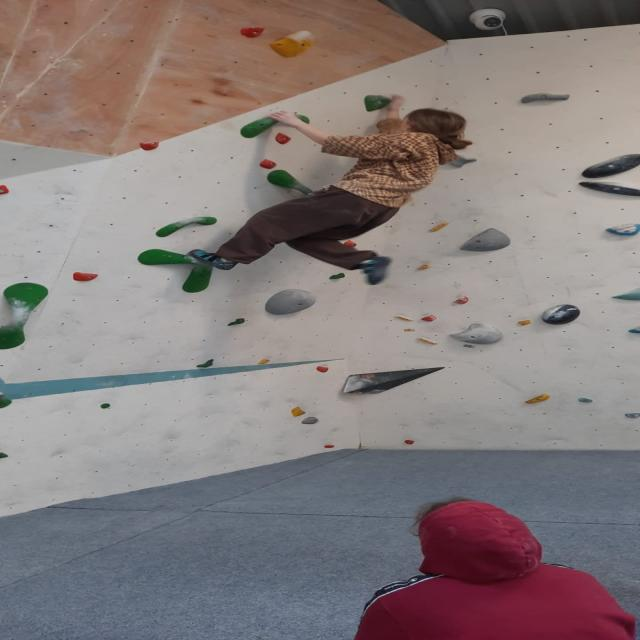Crimp: (136, 139, 176, 155), (237, 23, 273, 40), (523, 392, 555, 407), (253, 156, 280, 168), (273, 131, 291, 147), (290, 406, 310, 419), (315, 364, 336, 374), (452, 296, 473, 306), (418, 314, 439, 322), (258, 358, 272, 364)
Jug: (130, 247, 231, 297), (0, 280, 62, 350), (230, 108, 320, 140), (150, 212, 222, 240), (263, 29, 323, 60), (264, 169, 322, 196)
Pinch: (415, 334, 442, 346), (392, 314, 420, 324)
Sloper: (574, 150, 640, 181), (259, 286, 319, 316), (456, 225, 514, 253), (444, 324, 508, 346), (575, 179, 640, 198), (302, 415, 320, 426)
